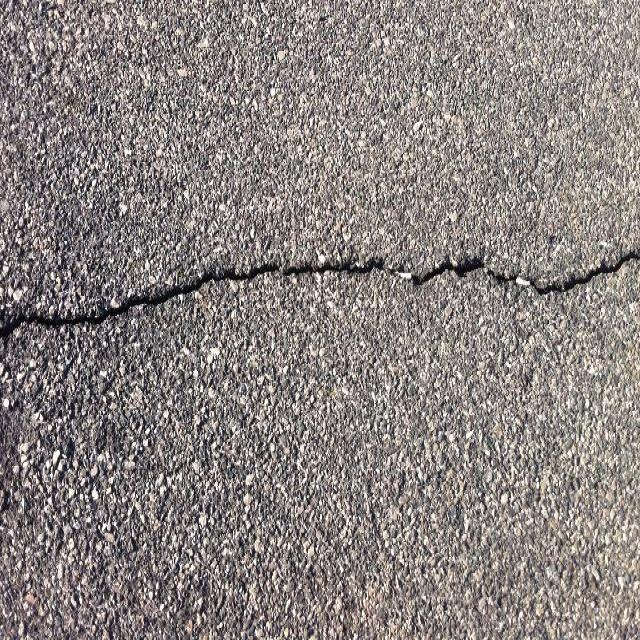Crack: (264, 210, 364, 640), (338, 0, 418, 163)
